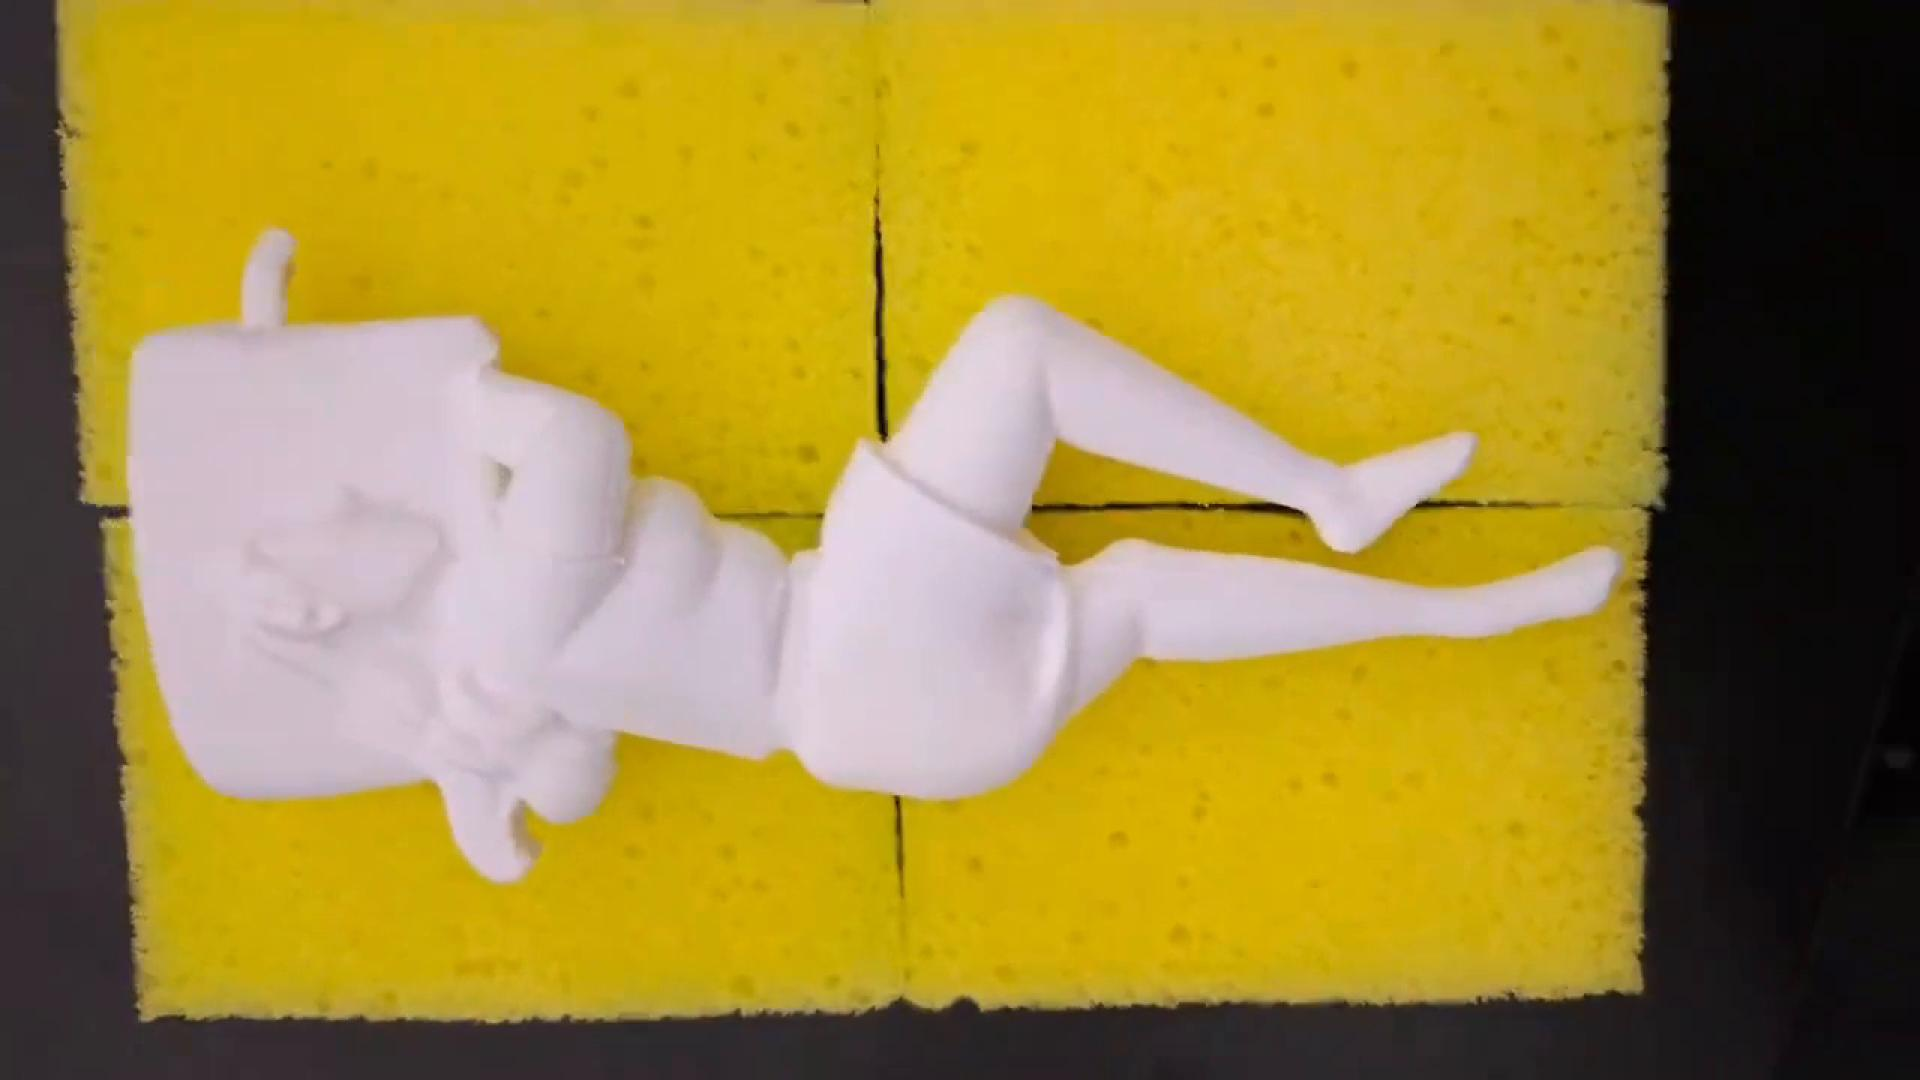Good-style: (123, 228, 1617, 884)
